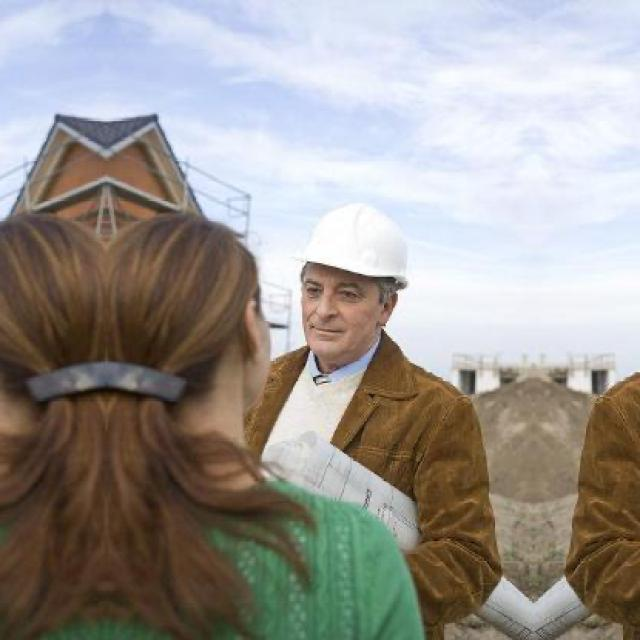con casco: (285, 207, 429, 326)
sin casco: (102, 222, 266, 433)
